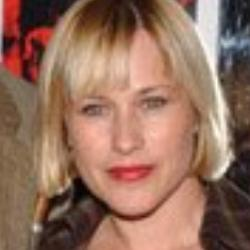face: (28, 3, 239, 218)
